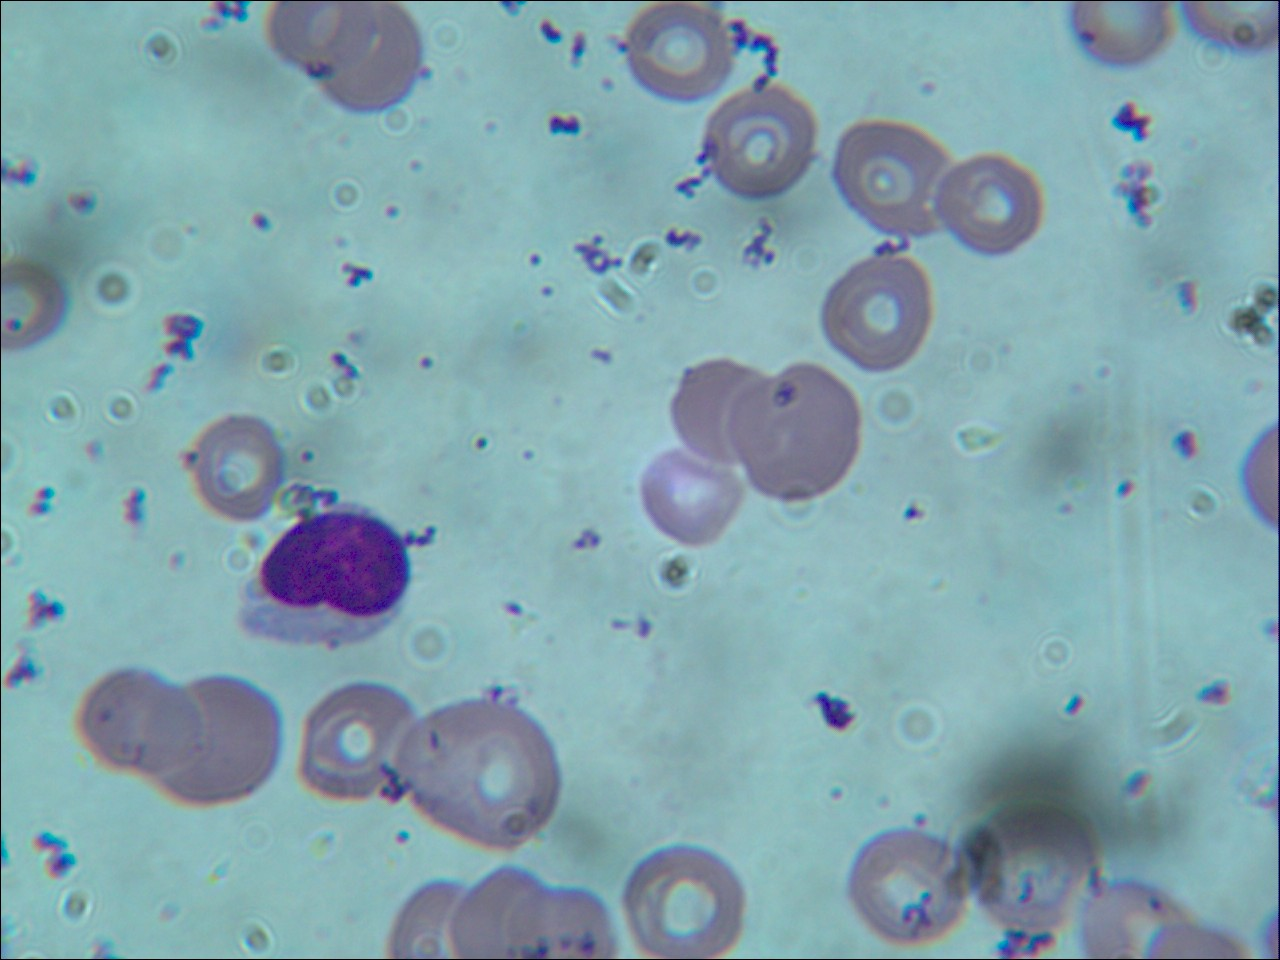Eritrosit: (395, 702, 558, 852), (731, 369, 861, 502), (152, 672, 277, 808), (830, 119, 959, 246), (689, 78, 820, 203), (974, 806, 1095, 934), (298, 678, 417, 808), (68, 667, 205, 777), (815, 256, 931, 383), (625, 840, 745, 960), (843, 828, 962, 944), (664, 353, 783, 464), (623, 3, 742, 112), (312, 8, 428, 114), (933, 152, 1042, 262), (639, 449, 745, 555), (449, 862, 562, 960), (187, 412, 281, 527), (1077, 871, 1187, 960), (1055, 1, 1174, 72), (270, 1, 374, 74), (1, 258, 71, 356)
Limfosit: (231, 502, 411, 653)
Platelet: (159, 544, 200, 578), (1058, 689, 1096, 725), (587, 339, 621, 378), (409, 346, 442, 386), (468, 109, 505, 144), (570, 519, 606, 556), (1112, 474, 1145, 511), (914, 72, 946, 108), (498, 593, 525, 631), (895, 500, 925, 533), (243, 205, 275, 234), (595, 71, 624, 103), (628, 611, 656, 643), (409, 59, 442, 86), (378, 197, 405, 228), (609, 615, 636, 646), (289, 444, 323, 468), (28, 496, 55, 524), (395, 827, 421, 855), (177, 218, 206, 244), (820, 777, 843, 811), (1090, 355, 1115, 384), (81, 437, 106, 465), (912, 805, 934, 836), (400, 155, 428, 178), (1050, 496, 1078, 519), (514, 442, 539, 465), (470, 428, 493, 453), (873, 790, 893, 818), (328, 230, 350, 255), (524, 243, 545, 269), (536, 278, 553, 303), (1067, 377, 1086, 397), (39, 483, 56, 503)
